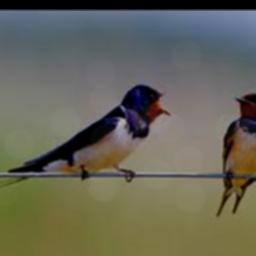Swallow: (0, 84, 174, 193), (218, 91, 256, 217)
